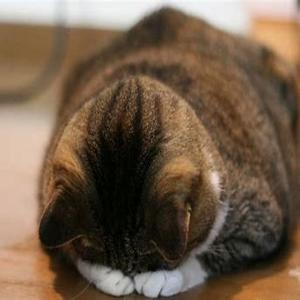cat: (55, 91, 280, 299)
